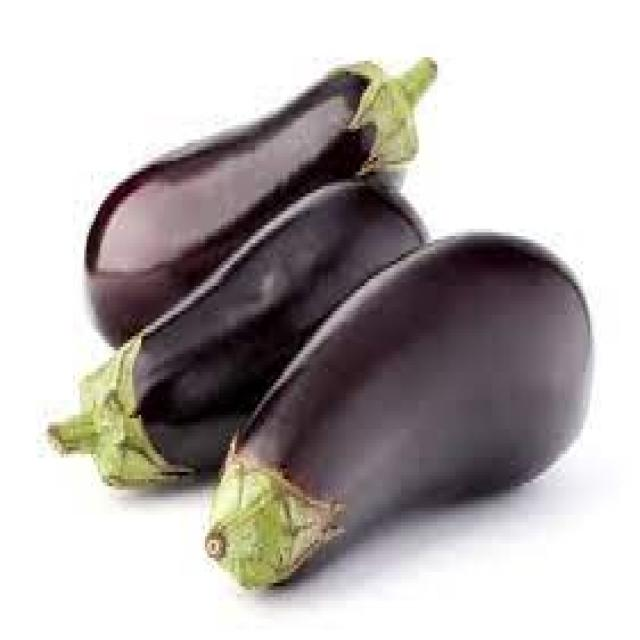eggplant: (211, 236, 594, 588), (50, 182, 422, 484), (84, 57, 437, 347)
